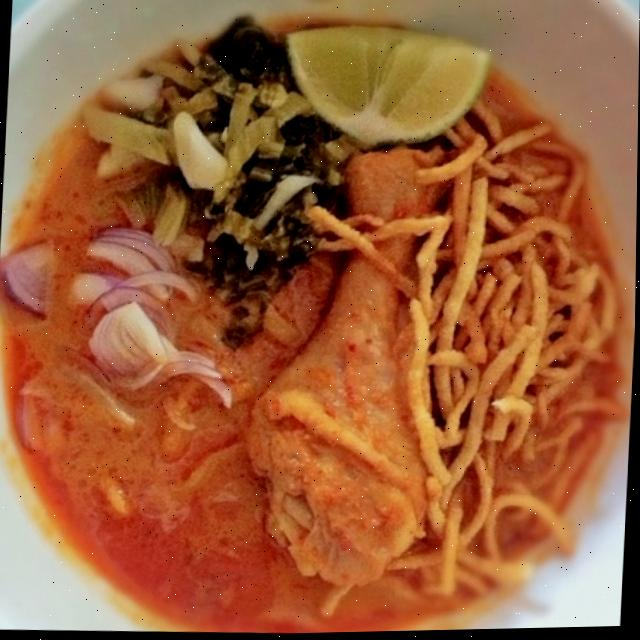面条主食: (0, 13, 634, 640)
